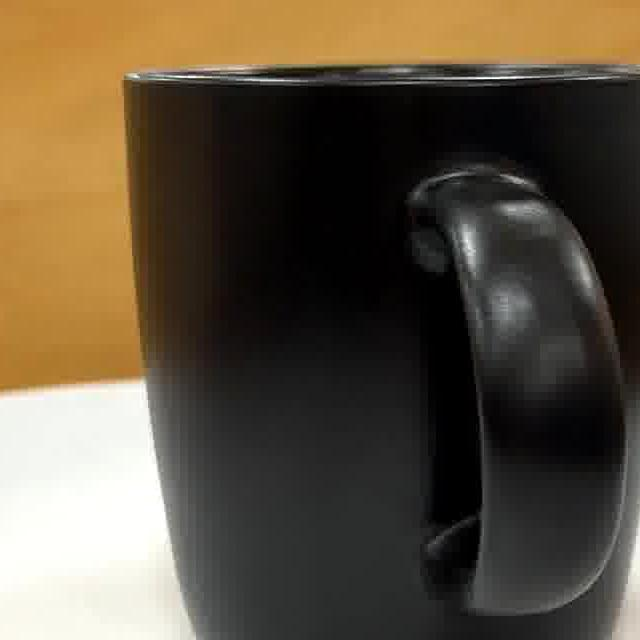cup: (131, 66, 640, 640)
